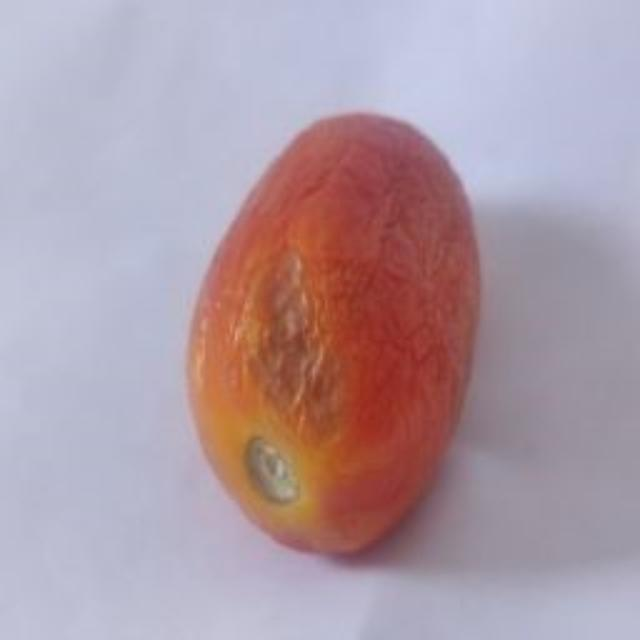defect: (181, 105, 488, 561)
